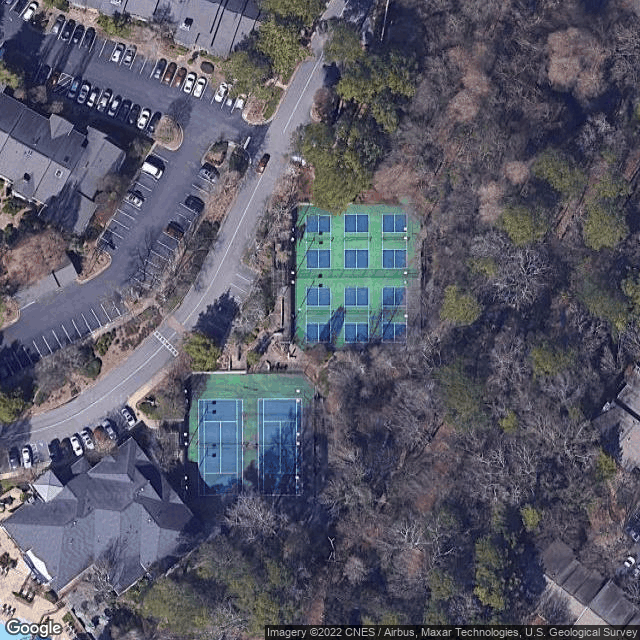Court: (197, 398, 246, 500), (256, 398, 303, 498)
